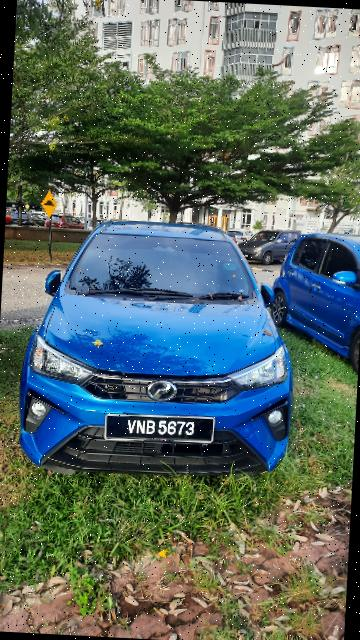License_Plate: (97, 409, 222, 450)
car: (8, 217, 297, 482)
